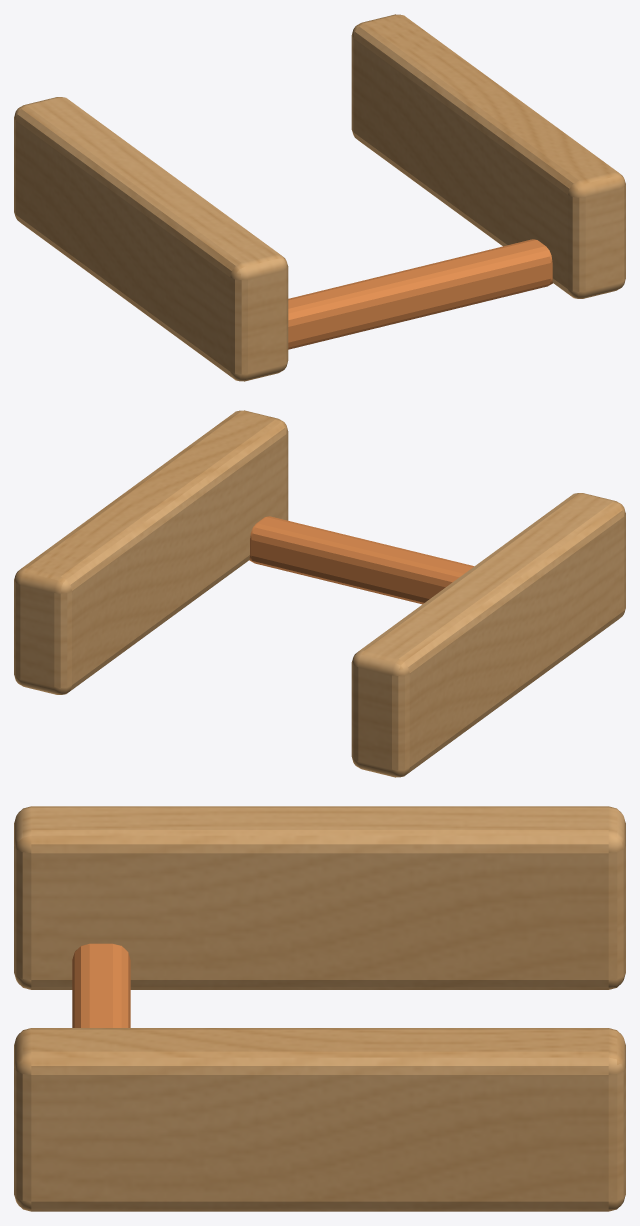
The model's file is cradle.glb.
The picture shows the model from 3 angles, top to bottom: view 1: azimuth 30°, elevation 25°; view 2: azimuth 150°, elevation 25°; view 3: azimuth 270°, elevation 25°; orthographic projection. The views are drawn at different scales.
Visible parts, largest first — view 1: cradle; view 2: cradle; view 3: cradle.
Part boxes in pixels (bbox=[...]): cradle: bbox=[14, 14, 625, 381]; cradle: bbox=[14, 410, 625, 777]; cradle: bbox=[14, 806, 625, 1211].
Size of the model in its own units: 0.021 by 0.006 by 0.021.
2 materials, 1 textured.
